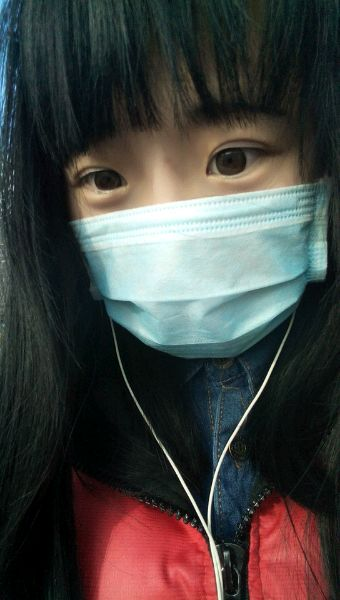face_mask: (72, 25, 304, 349)
